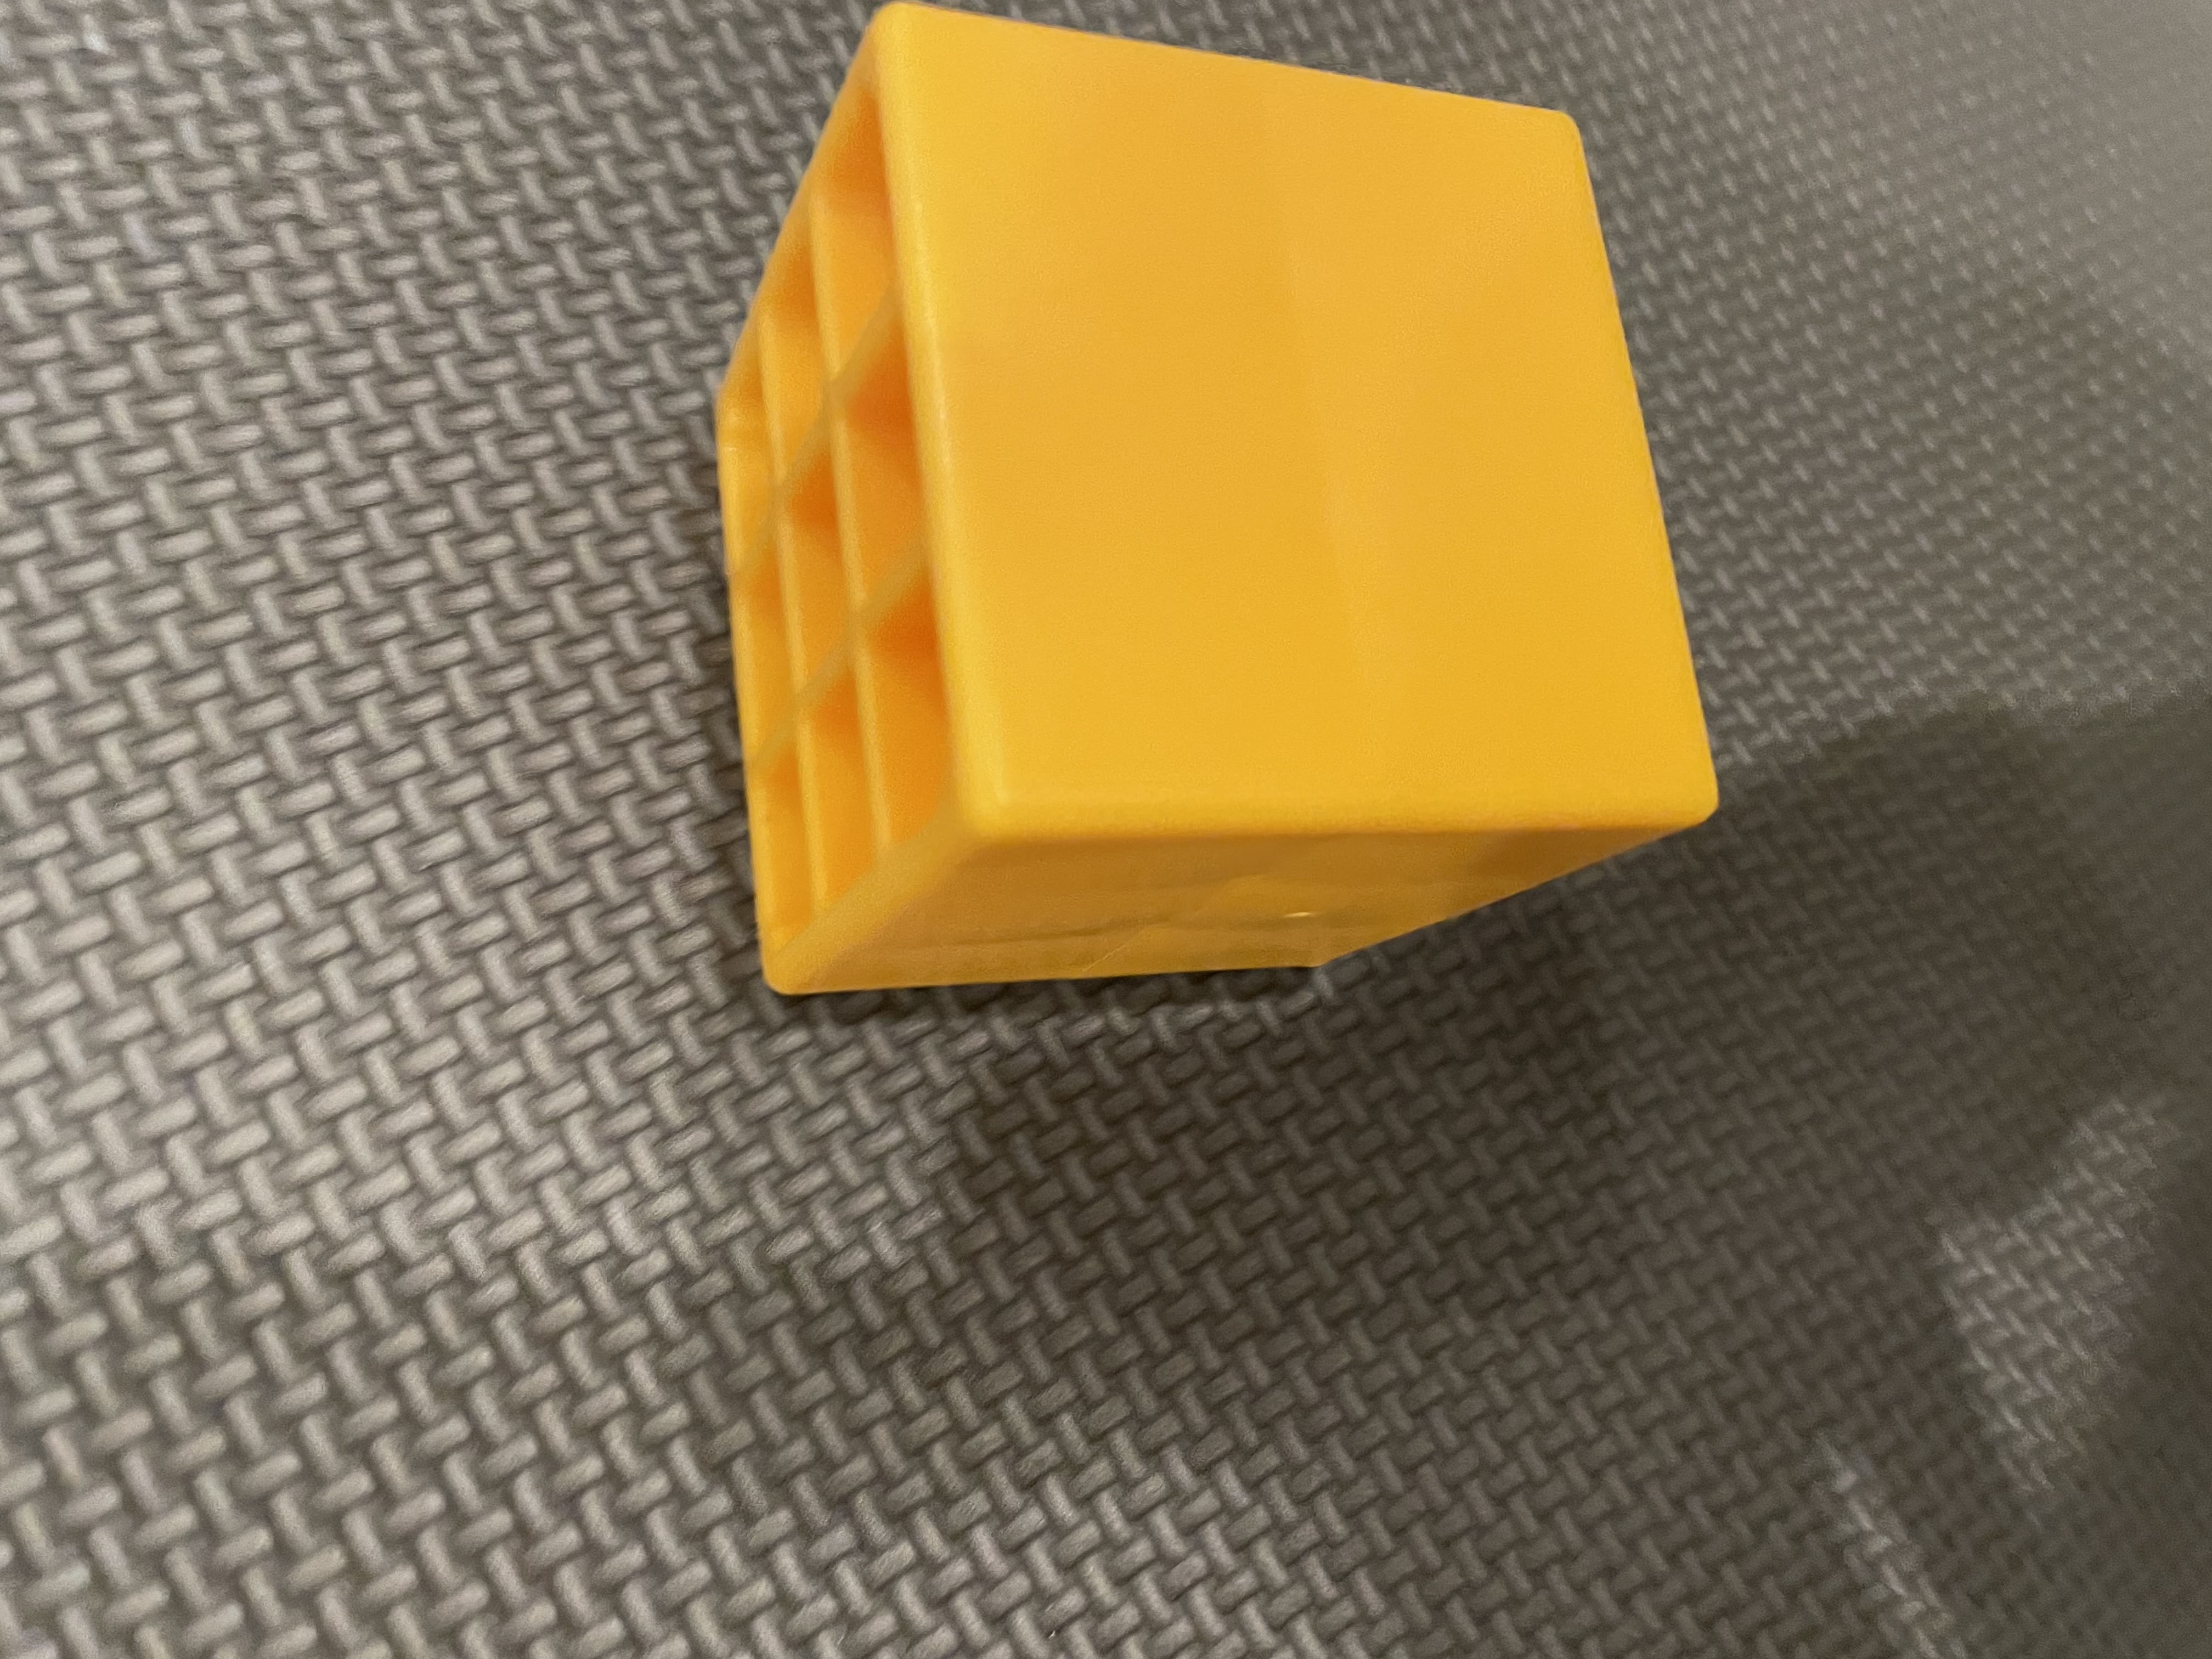cube: (604, 5, 1747, 1134)
